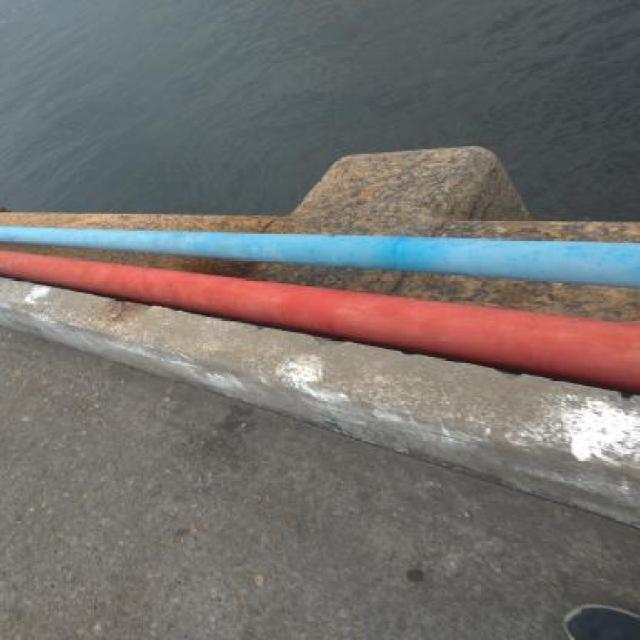gas: (2, 252, 637, 386), (6, 225, 640, 286)
